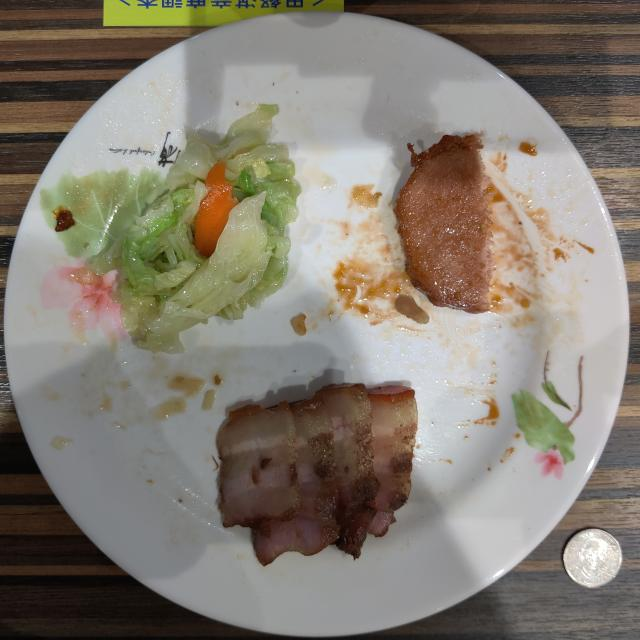Spam: (394, 134, 494, 312)
cabbage: (91, 104, 301, 352)
coin: (564, 529, 622, 588)
red grilled pork: (216, 384, 418, 565)
